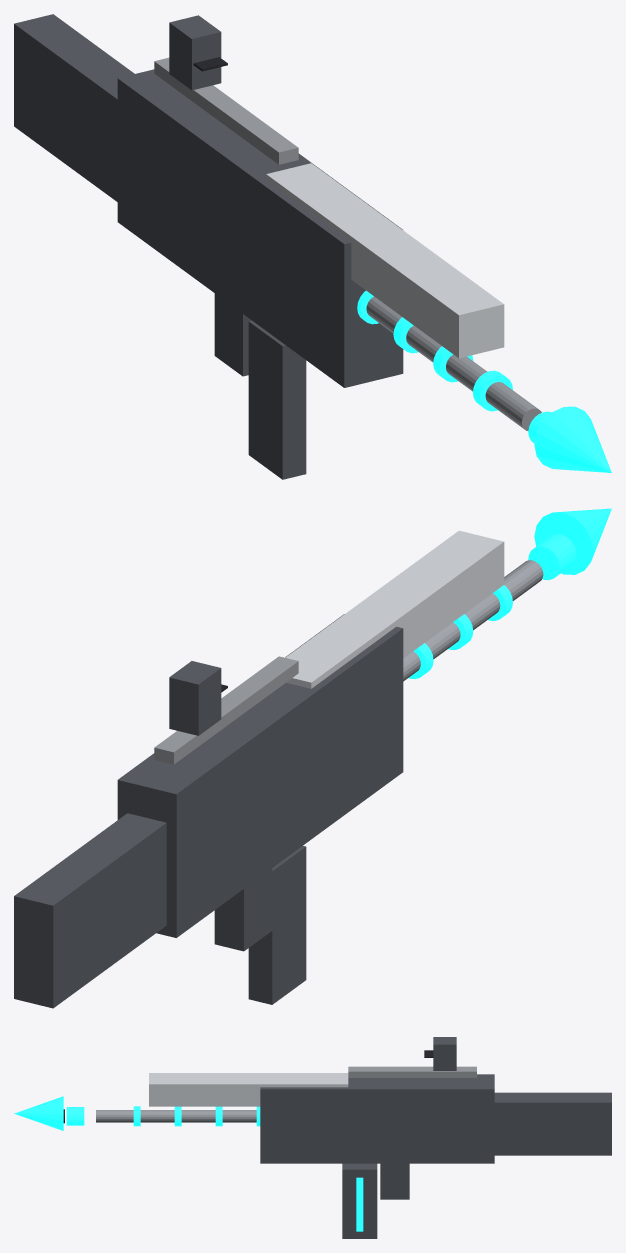
File: laser.glb
3 views of the same model, one above another, from view 1: azimuth 30°, elevation 25°; view 2: azimuth 150°, elevation 25°; view 3: azimuth 270°, elevation 25° (orthographic). The views are drawn at different scales.
Visible parts, largest first — view 1: laser.body, laser.shroud, laser.stock, laser.mag, laser.flash, laser.rail, laser.barrel, laser.sight, laser.grip, laser.coil3; view 2: laser.body, laser.stock, laser.shroud, laser.mag, laser.rail, laser.sight, laser.grip, laser.barrel, laser.flash, laser.emitter; view 3: laser.body, laser.stock, laser.shroud, laser.mag, laser.barrel, laser.rail, laser.grip, laser.flash, laser.sight, laser.mag_glow, laser.emitter.
Boxes of the visible parts, x1=… form: laser.body: x1=117, y1=69, x2=403, y2=387; laser.shroud: x1=266, y1=163, x2=504, y2=358; laser.stock: x1=14, y1=14, x2=134, y2=201; laser.mag: x1=248, y1=320, x2=306, y2=479; laser.flash: x1=534, y1=406, x2=611, y2=472; laser.rail: x1=154, y1=57, x2=298, y2=164; laser.barrel: x1=366, y1=296, x2=541, y2=430; laser.sight: x1=169, y1=15, x2=221, y2=90; laser.grip: x1=214, y1=293, x2=251, y2=376; laser.coil3: x1=473, y1=370, x2=512, y2=411; laser.body: x1=117, y1=614, x2=403, y2=937; laser.stock: x1=14, y1=813, x2=166, y2=1008; laser.shroud: x1=285, y1=530, x2=504, y2=688; laser.mag: x1=248, y1=846, x2=306, y2=1004; laser.rail: x1=154, y1=656, x2=298, y2=764; laser.sight: x1=169, y1=661, x2=221, y2=735; laser.grip: x1=214, y1=868, x2=272, y2=951; laser.barrel: x1=403, y1=560, x2=543, y2=681; laser.flash: x1=534, y1=508, x2=611, y2=574; laser.emitter: x1=528, y1=534, x2=576, y2=580; laser.body: x1=260, y1=1074, x2=494, y2=1163; laser.stock: x1=494, y1=1092, x2=611, y2=1155; laser.shroud: x1=149, y1=1073, x2=348, y2=1106; laser.mag: x1=342, y1=1163, x2=377, y2=1238; laser.barrel: x1=96, y1=1110, x2=256, y2=1122; laser.rail: x1=348, y1=1066, x2=476, y2=1077; laser.grip: x1=380, y1=1163, x2=409, y2=1199; laser.flash: x1=14, y1=1096, x2=63, y2=1130; laser.sight: x1=433, y1=1037, x2=456, y2=1070; laser.mag_glow: x1=356, y1=1177, x2=363, y2=1231; laser.emitter: x1=66, y1=1107, x2=84, y2=1125.
Bounding box in the file's own units: 0.06 × 0.367 × 1.02.
